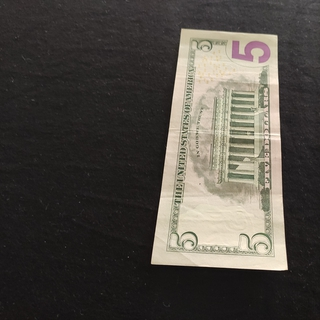5USDBack: (151, 28, 289, 272)
